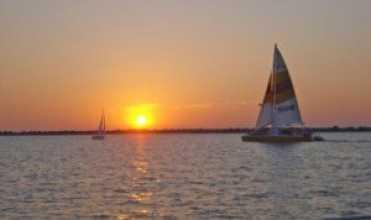fanchuan: (237, 42, 321, 145)
